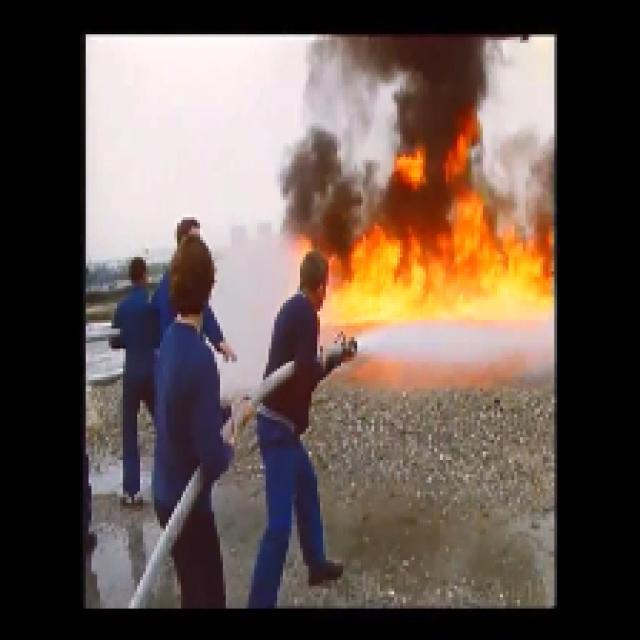Fire: (282, 218, 568, 332), (381, 116, 508, 193)
Smoke: (316, 34, 512, 100)
